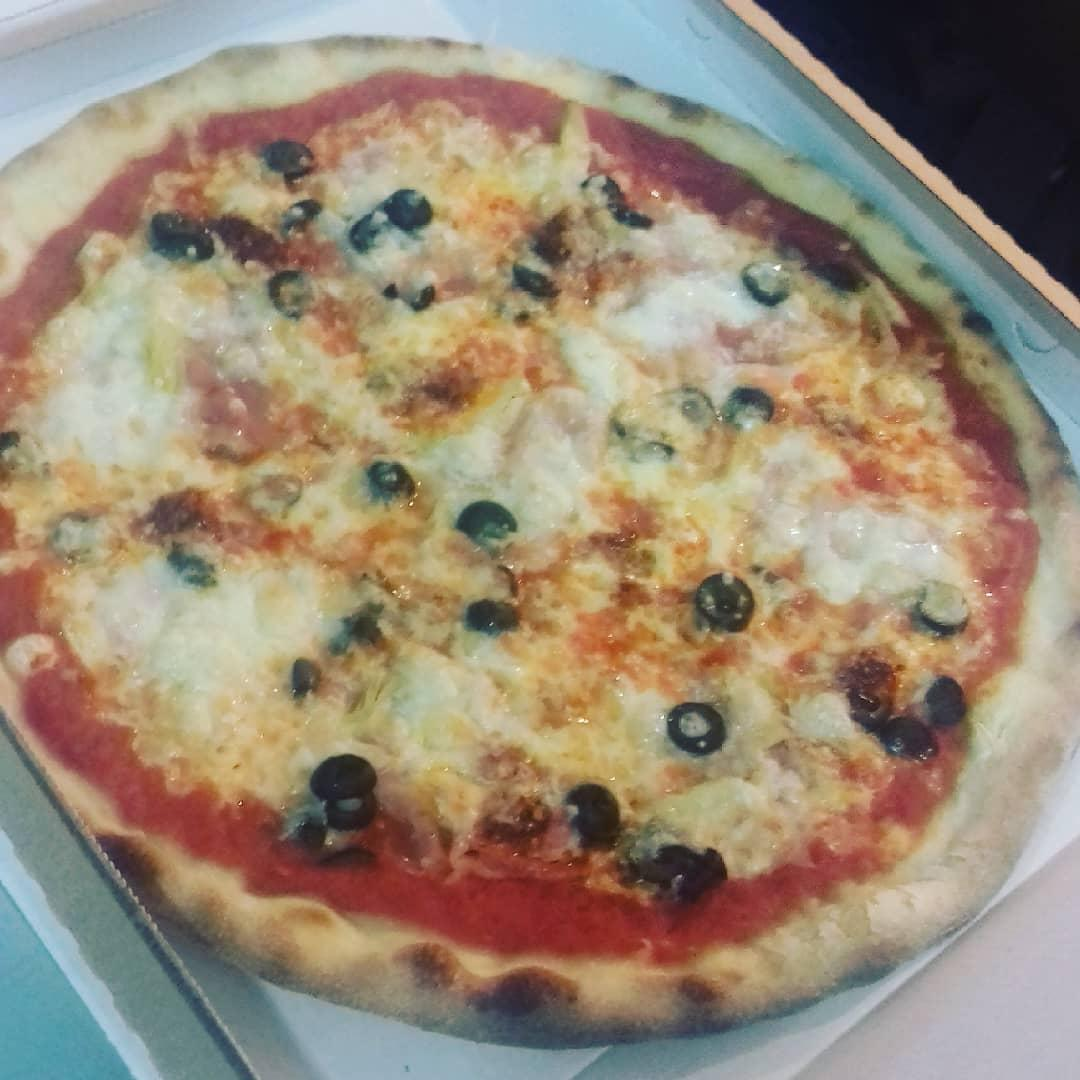Olives: (609, 379, 778, 465), (306, 751, 382, 831), (347, 187, 431, 257), (641, 843, 728, 901), (690, 566, 761, 629), (455, 493, 525, 556), (579, 173, 655, 231), (563, 778, 623, 848), (146, 209, 216, 267), (668, 698, 726, 754), (508, 248, 567, 301), (914, 579, 972, 631), (268, 267, 318, 322), (360, 458, 417, 506), (884, 718, 941, 766), (741, 259, 796, 307), (465, 593, 526, 636), (926, 671, 969, 725), (847, 682, 895, 730), (171, 543, 220, 590), (263, 136, 316, 178), (377, 277, 440, 311), (287, 654, 327, 705), (283, 197, 323, 229)
Pizza: (0, 30, 1080, 1042)
